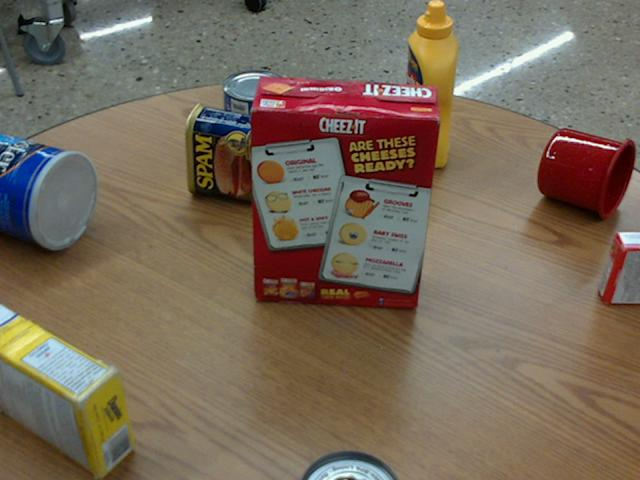cracker_box: (250, 76, 442, 305)
gelatin_box: (601, 234, 639, 306)
master_chef_can: (0, 132, 99, 249)
mug: (538, 128, 635, 219)
mustard_bottle: (400, 0, 458, 167)
potted_meat_can: (185, 101, 272, 200)
sugar_box: (0, 300, 134, 475)
tomato_soup_can: (303, 450, 401, 479)
tuna_fish_can: (223, 68, 289, 121)
